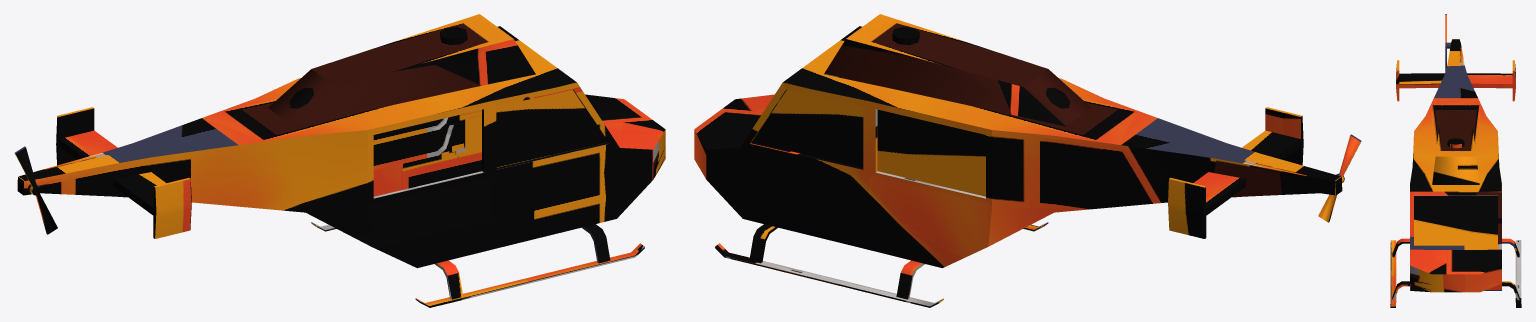
File: HelicopterBody.obj
The picture shows the model from 3 angles, left to right: view 1: azimuth 30°, elevation 25°; view 2: azimuth 150°, elevation 25°; view 3: azimuth 270°, elevation 25°; orthographic projection. The views are drawn at different scales.
Visible parts, largest first — view 1: HelicopterBody_Cube1; view 2: HelicopterBody_Cube1; view 3: HelicopterBody_Cube1.
Part boxes in pixels (x1,y1,x2,y2): HelicopterBody_Cube1: (14, 14, 665, 307); HelicopterBody_Cube1: (694, 14, 1361, 307); HelicopterBody_Cube1: (1390, 14, 1521, 307).
Size of the model in its own units: 6.64 by 2.15 by 1.97.
Materials: 1 (1 with a texture image).
